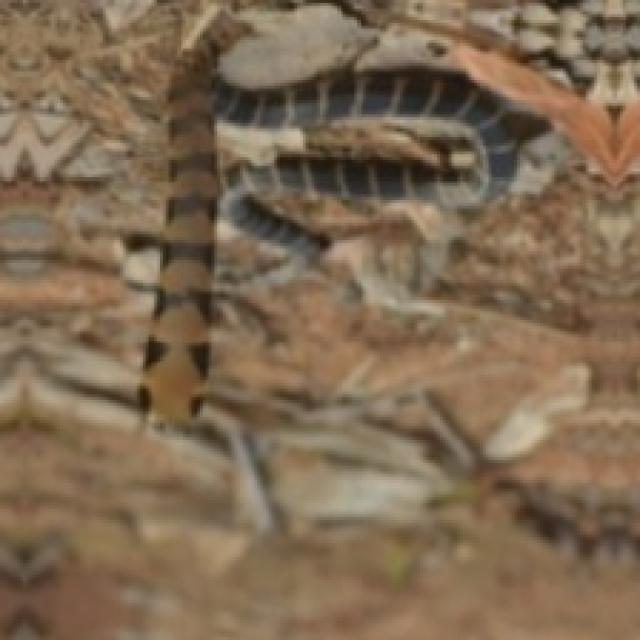king cobra: (140, 0, 637, 420)
